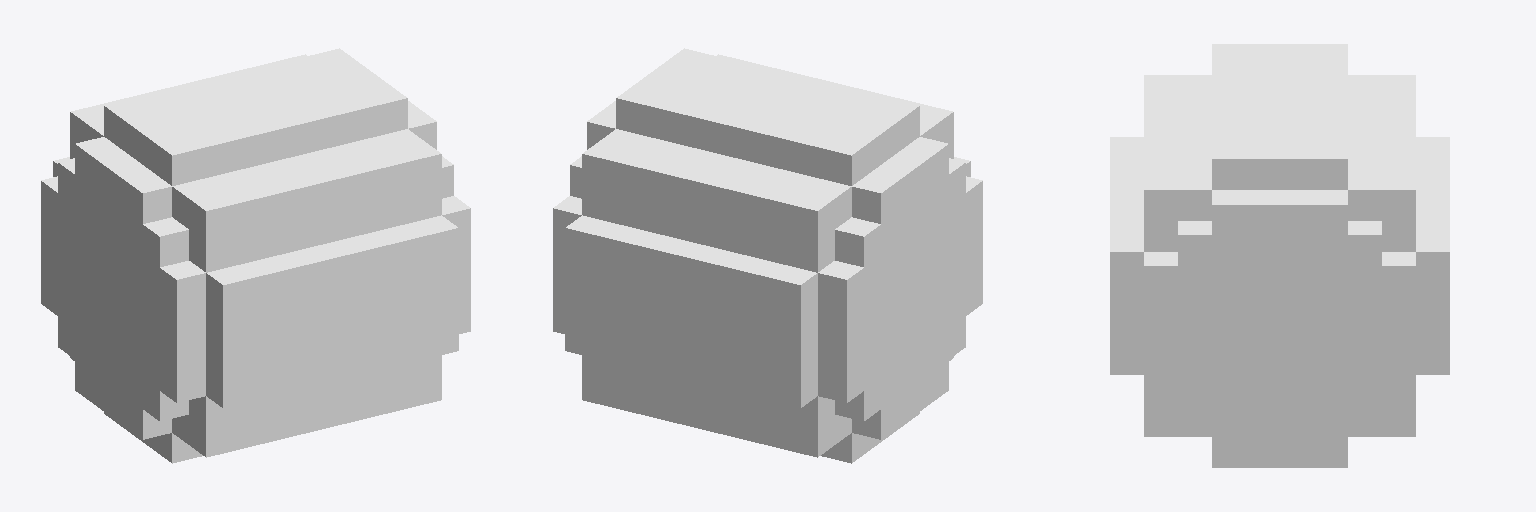
File: HayBale.obj
3 views of the same model, side by side, from view 1: azimuth 30°, elevation 25°; view 2: azimuth 150°, elevation 25°; view 3: azimuth 270°, elevation 25° (orthographic).
Visible parts, largest first — view 1: object 1; view 2: object 1; view 3: object 1.
Part boxes in pixels (x1,y1,x2,y2): object 1: (41,48,470,463); object 1: (553,48,982,463); object 1: (1110,44,1449,467).
Bounding box in the file's own units: 1 × 1 × 1.